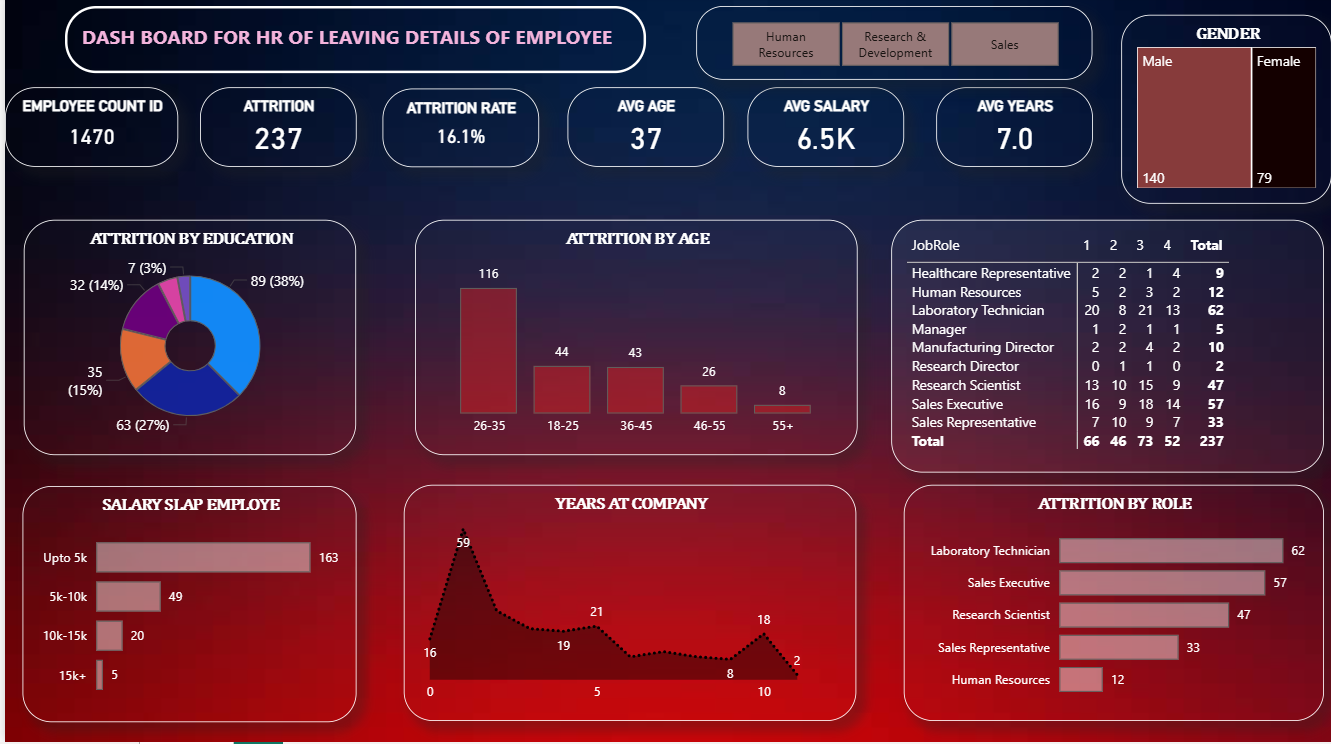

What the dashboard file says about the page in this screenshot:
{"tool":"powerbi","page":{"name":"Page 1","canvas":[1280,720],"ordinal":0},"visuals":[{"type":"card","title":"EMPLOYEE COUNT ID","fields":{"Values":["CountNonNull(HR_Analytics.EmpID)"]},"box":[0,87.8,167.4,76.8],"z":0},{"type":"card","title":"ATTRITION","fields":{"Values":["Sum(HR_Analytics.AttritionCount)"]},"box":[188,87.8,150.9,76.8],"z":1},{"type":"card","title":"ATTRITION RATE","fields":{"Values":["HR_Analytics.AttritionRtae"]},"box":[364.3,89.3,150.8,76],"z":2},{"type":"card","title":"AVG AGE","fields":{"Values":["Avg(HR_Analytics.Age)"]},"box":[543.4,87.8,150.9,76.8],"z":3},{"type":"card","title":"AVG SALARY","fields":{"Values":["Avg(HR_Analytics.MonthlyIncome)"]},"box":[716.3,87.8,150.9,76.8],"z":4},{"type":"donutChart","title":"ATTRITION BY EDUCATION","fields":{"Category":["HR_Analytics.EducationField"],"Y":["Sum(HR_Analytics.AttritionCount)"]},"box":[18.1,216,320.9,226.8],"z":6},{"type":"clusteredColumnChart","title":"ATTRITION BY AGE","fields":{"Category":["HR_Analytics.AgeGroup"],"Y":["Sum(HR_Analytics.AttritionCount)"]},"box":[395.7,216,427.1,226.8],"z":7},{"type":"pivotTable","fields":{"Rows":["HR_Analytics.JobRole"],"Columns":["HR_Analytics.JobSatisfaction"],"Values":["Sum(HR_Analytics.AttritionCount)"]},"box":[855.4,216,417.4,243.7],"z":8},{"type":"barChart","title":"SALARY SLAP EMPLOYE","fields":{"Category":["HR_Analytics.SalarySlab"],"Y":["Sum(HR_Analytics.AttritionCount)"]},"box":[16.9,472.9,322.1,228],"z":9},{"type":"barChart","title":"ATTRITION BY ROLE","fields":{"Category":["HR_Analytics.JobRole"],"Y":["Sum(HR_Analytics.AttritionCount)"]},"box":[867.4,471.7,405.4,228],"z":10},{"type":"areaChart","title":"YEARS AT COMPANY","fields":{"Category":["HR_Analytics.YearsAtCompany"],"Y":["Sum(HR_Analytics.AttritionCount)"]},"box":[384.9,471.7,436.7,228],"z":11},{"type":"card","title":"AVG YEARS","fields":{"Values":["Avg(HR_Analytics.YearsAtCompany)"]},"box":[898.8,87.8,150.9,76.8],"z":13},{"type":"treemap","title":"GENDER","fields":{"Values":["Sum(HR_Analytics.AttritionCount)"],"Group":["HR_Analytics.Gender"]},"box":[1077.2,17.8,203.1,182.5],"z":14},{"type":"slicer","fields":{"Values":["HR_Analytics.Department"]},"box":[667.2,9.7,382.4,71.2],"z":15},{"type":"textbox","box":[57.9,9.7,561,65.1],"z":16}]}

Visuals, with their boxes in screenshot pixels (x1, y1, x2, y2), scaled from the page's 1280x720 canvas onto the 1331x744 screenshot:
"EMPLOYEE COUNT ID" card: [0,91,174,170]
"ATTRITION" card: [195,91,352,170]
"ATTRITION RATE" card: [379,92,536,171]
"AVG AGE" card: [565,91,722,170]
"AVG SALARY" card: [745,91,902,170]
"ATTRITION BY EDUCATION" donutChart: [19,223,353,458]
"ATTRITION BY AGE" clusteredColumnChart: [411,223,856,458]
pivotTable - HR_Analytics.JobRole x HR_Analytics.JobSatisfaction: [889,223,1324,475]
"SALARY SLAP EMPLOYE" barChart: [18,489,353,724]
"ATTRITION BY ROLE" barChart: [902,487,1324,723]
"YEARS AT COMPANY" areaChart: [400,487,854,723]
"AVG YEARS" card: [935,91,1092,170]
"GENDER" treemap: [1120,18,1330,207]
slicer - HR_Analytics.Department: [694,10,1091,84]
textbox: [60,10,644,77]
